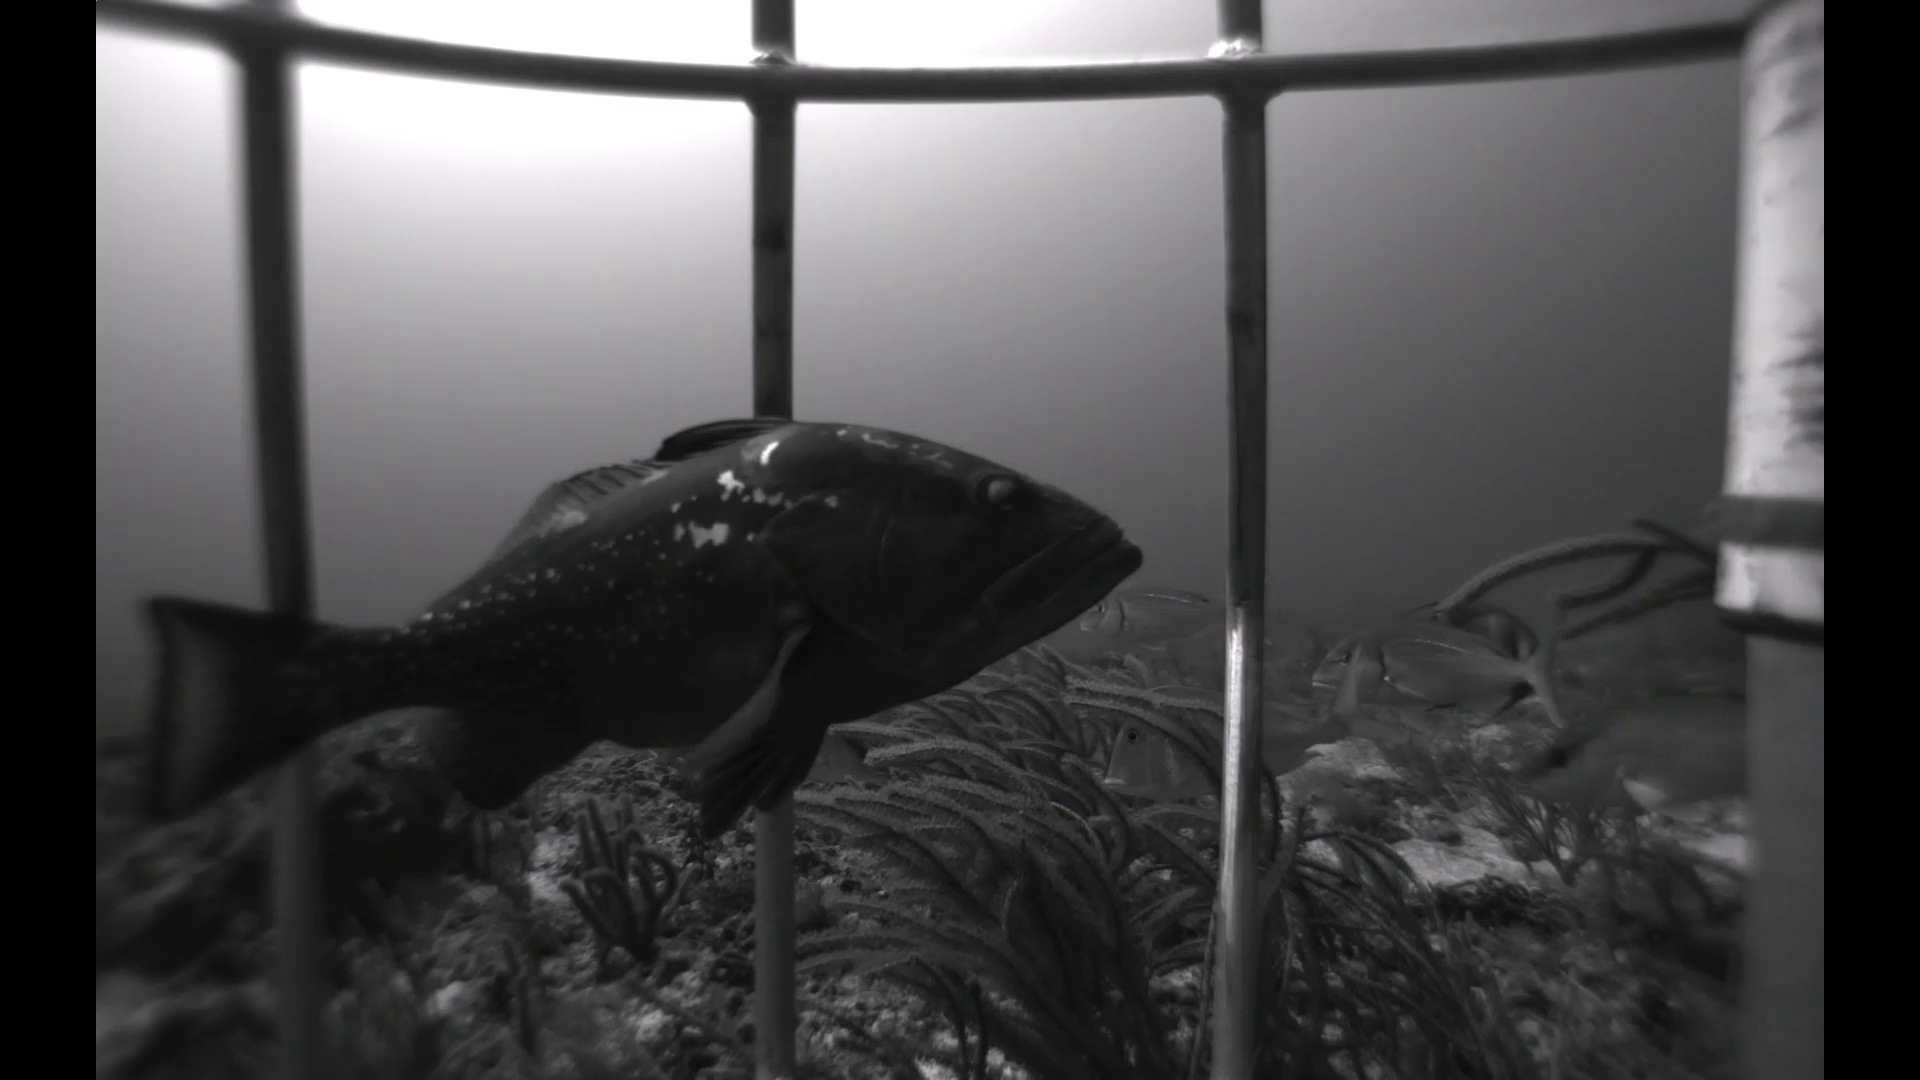CALAMUSNODOSUS-170210608: (1087, 640, 1422, 819)
EPINEPHELUSMORIO-170021211: (127, 390, 1134, 880), (186, 753, 533, 928)
LUTJANUSGRISEUS-170151109: (1513, 659, 1749, 841), (644, 728, 899, 804)
PAGRUSPAGRUS-170212302: (1298, 611, 1581, 735), (1063, 566, 1294, 654)
POMACANTHUSARCUATUS-170290201: (1395, 585, 1556, 728)
